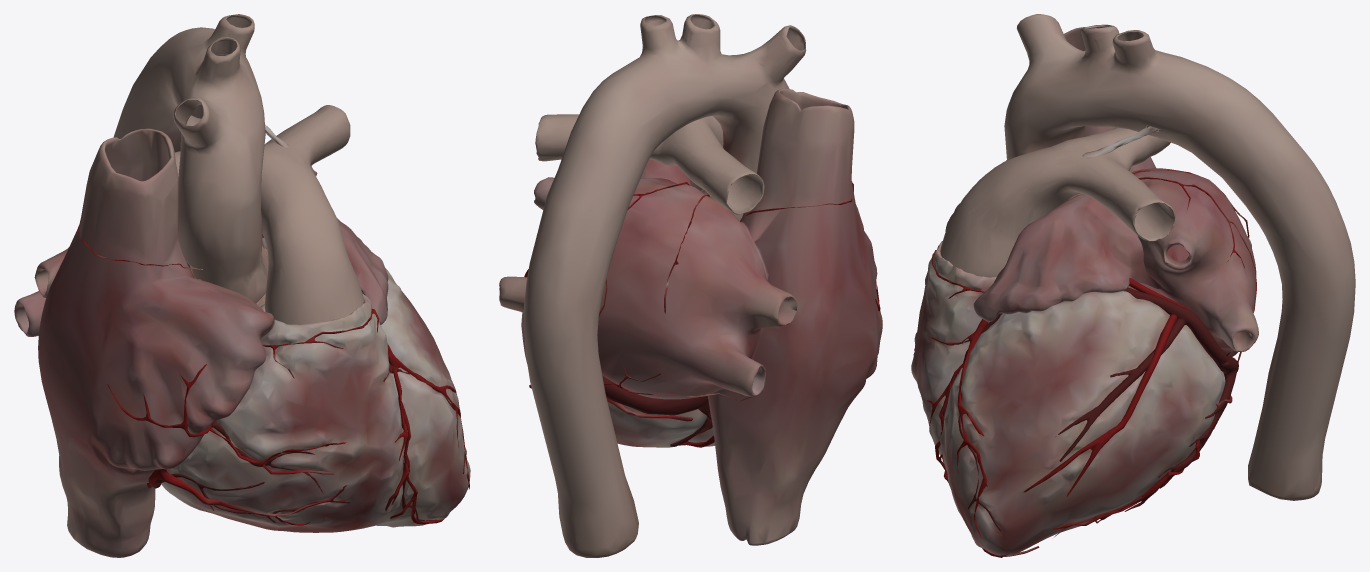
The model's file is heart.glb.
3 renders of one model, left to right at view 1: azimuth 30°, elevation 25°; view 2: azimuth 150°, elevation 25°; view 3: azimuth 270°, elevation 25°, orthographic. The views are drawn at different scales.
Parts seen in each view (by area): view 1: MM634_BP51951_FMA4706_Coronary_sinus835_MM634_BP51951_FMA470 (×3); view 2: MM634_BP51951_FMA4706_Coronary_sinus835_MM634_BP51951_FMA470 (×3); view 3: MM634_BP51951_FMA4706_Coronary_sinus835_MM634_BP51951_FMA470 (×3).
Boxes of the visible parts, left/top/right/bottom form: MM634_BP51951_FMA4706_Coronary_sinus835_MM634_BP51951_FMA470 (×3): left=14, top=14, right=470, bottom=557; MM634_BP51951_FMA4706_Coronary_sinus835_MM634_BP51951_FMA470 (×3): left=499, top=14, right=882, bottom=557; MM634_BP51951_FMA4706_Coronary_sinus835_MM634_BP51951_FMA470 (×3): left=911, top=14, right=1355, bottom=557.
Size of the model in its own units: 0.5263 by 0.7201 by 0.6006.
